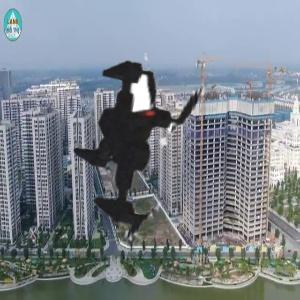drone: (12, 16, 277, 281)
